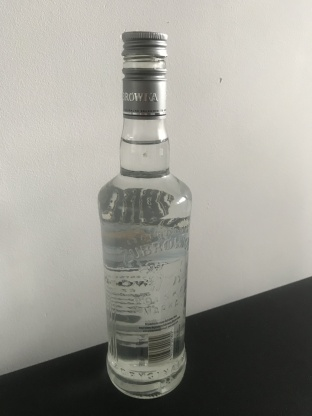nakretka: (120, 28, 169, 120)
